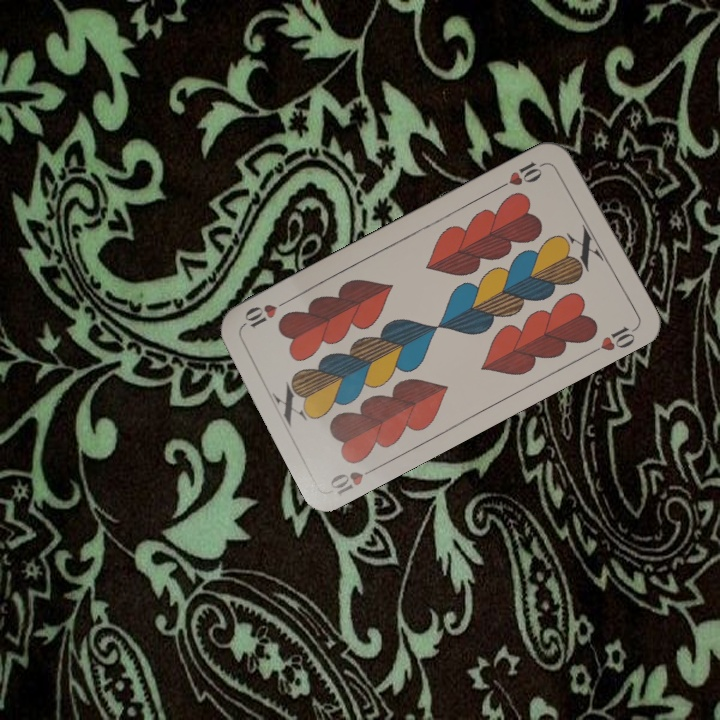H10: (325, 461, 382, 498), (495, 157, 550, 192)
